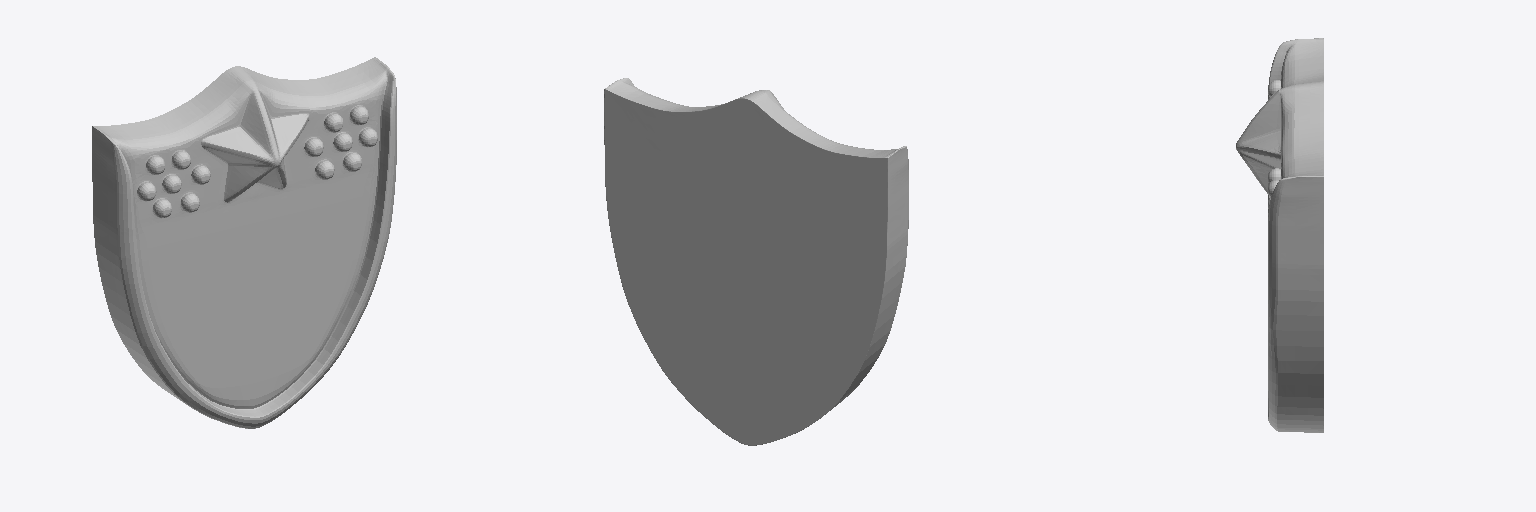
Rendered from shield.obj.
The picture shows the model from 3 angles: view 1: azimuth 30°, elevation 25°; view 2: azimuth 150°, elevation 25°; view 3: azimuth 270°, elevation 25°; orthographic projection.
Visible parts, largest first — view 1: shield; view 2: shield; view 3: shield.
Boxes of the visible parts, <box> form: shield: <box>92,57,396,428</box>; shield: <box>604,78,908,445</box>; shield: <box>1236,38,1323,432</box>.
Bounding box in the file's own units: 3.41 × 3.98 × 0.9134.